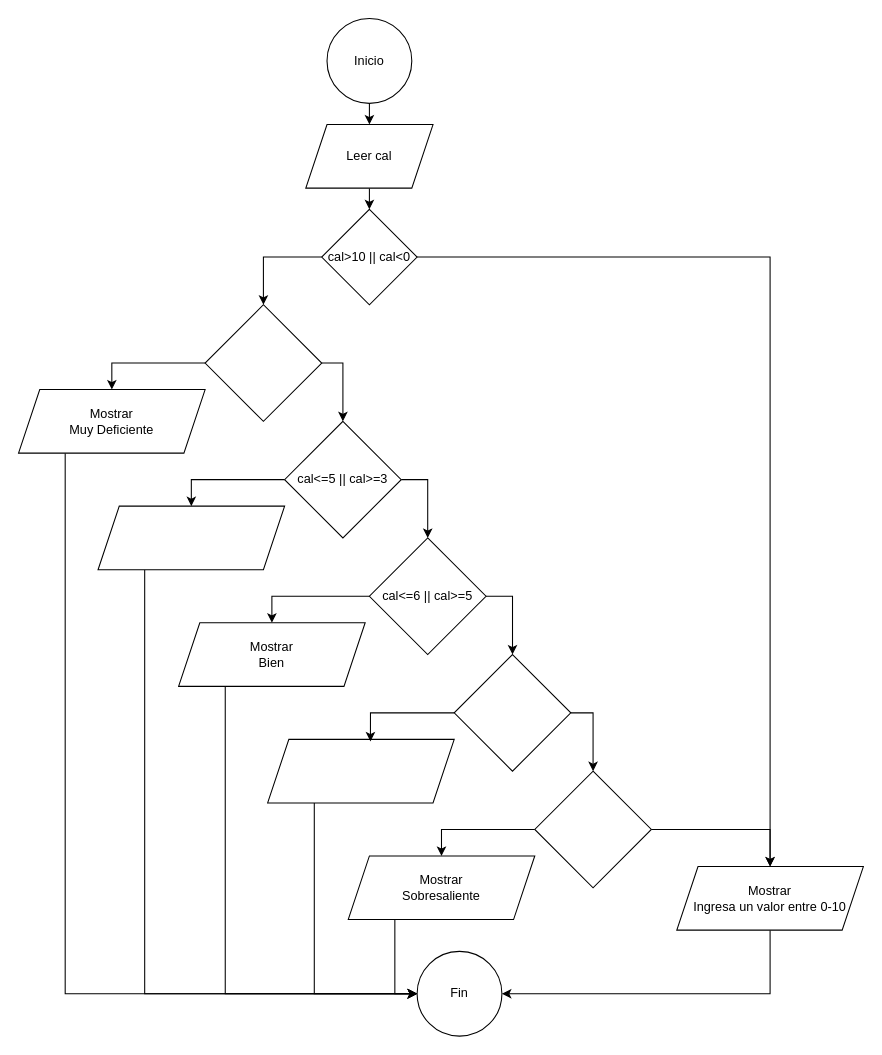
Some shapes in this 882 by 1055 pixel diagram are drawn without their labels. The shapes that lost their labels are listed below. From the top down, each one's centre as x and y in pixels, then its label:
At [263,362]: "cal<3".
At [191,537]: "Mostrar Insuficiente".
At [512,712]: "cal<=9 || cal>=6".
At [360,770]: "Mostrar Notable".
At [592,829]: "cal<=10 || cal>=9".
